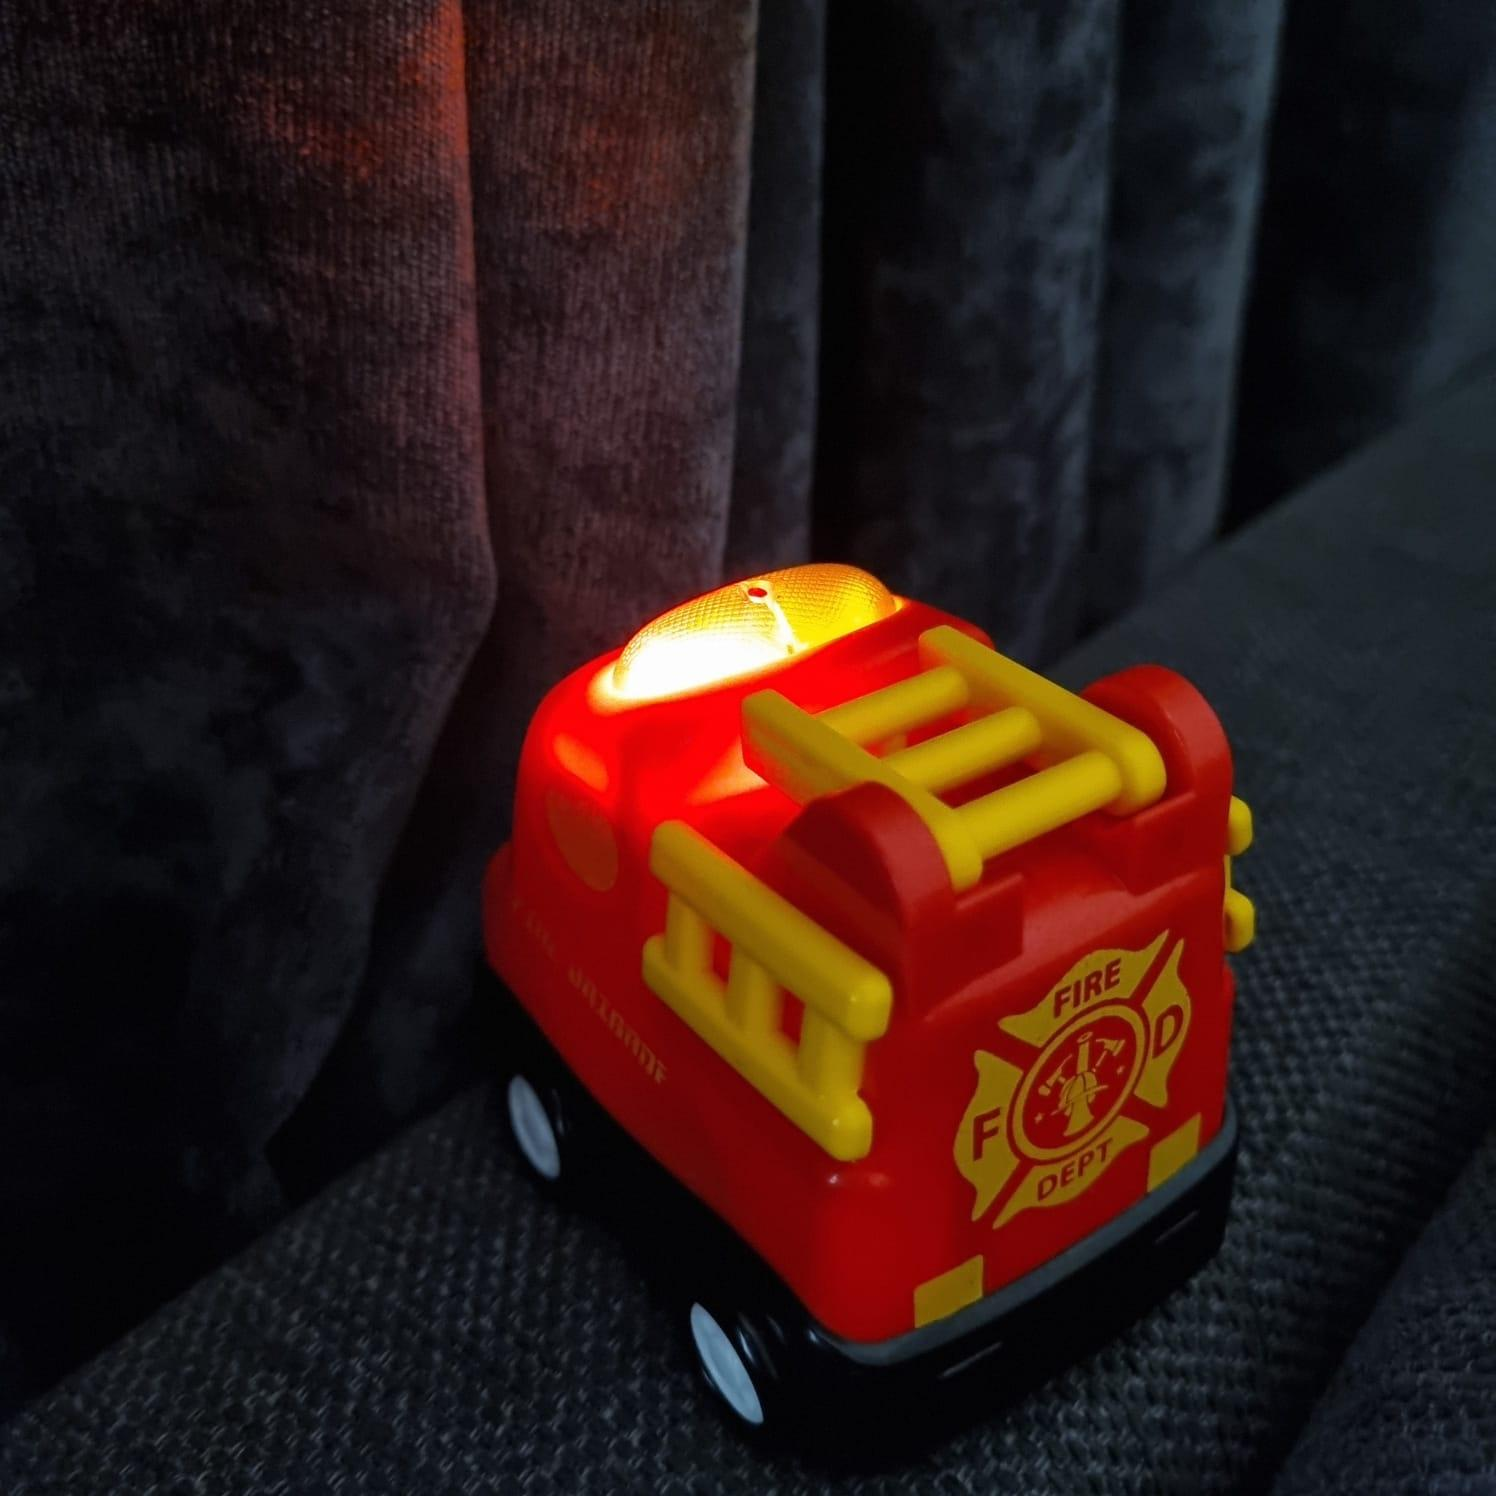firetruck_on: (464, 558, 1260, 1454)
